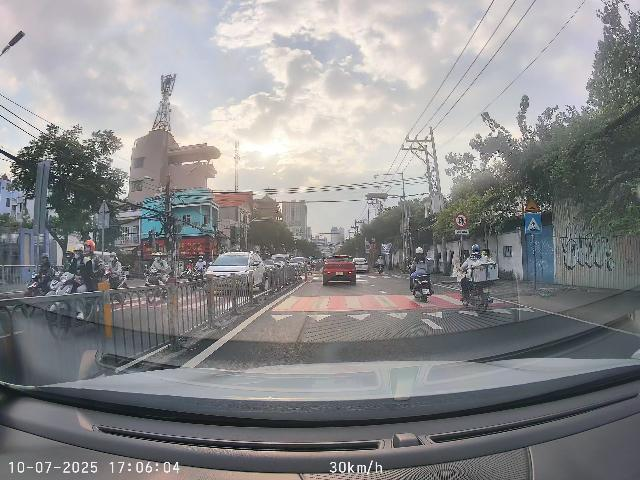124b-cam-oto-quay-dau-xe: (454, 213, 468, 228)
221-duong-go-ghe: (526, 197, 539, 212)
423a-duong-nguoi-di-bo-sang-ngang-1: (525, 213, 542, 234)
